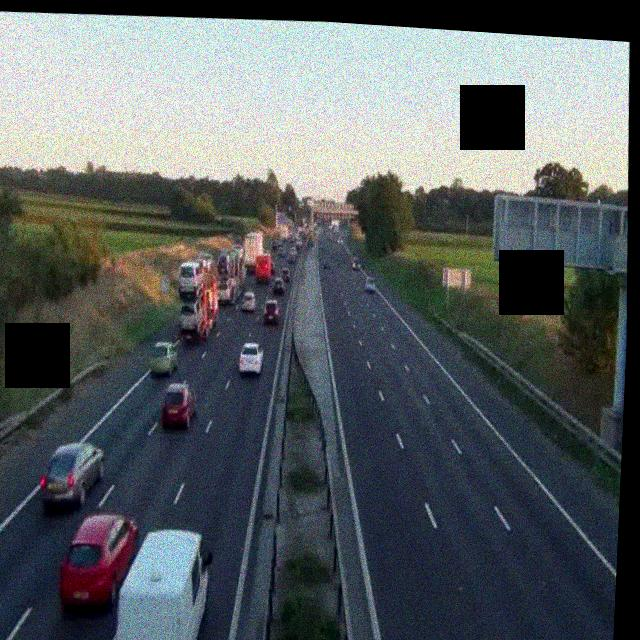car: (56, 508, 141, 615), (38, 439, 105, 513), (159, 380, 197, 430), (149, 341, 179, 378), (238, 342, 262, 375), (261, 296, 281, 326), (240, 285, 257, 313), (272, 273, 287, 293), (363, 274, 377, 292), (278, 265, 290, 281), (323, 256, 332, 269), (352, 257, 360, 270)
truck: (177, 252, 223, 342), (240, 227, 266, 283), (175, 258, 204, 299)
